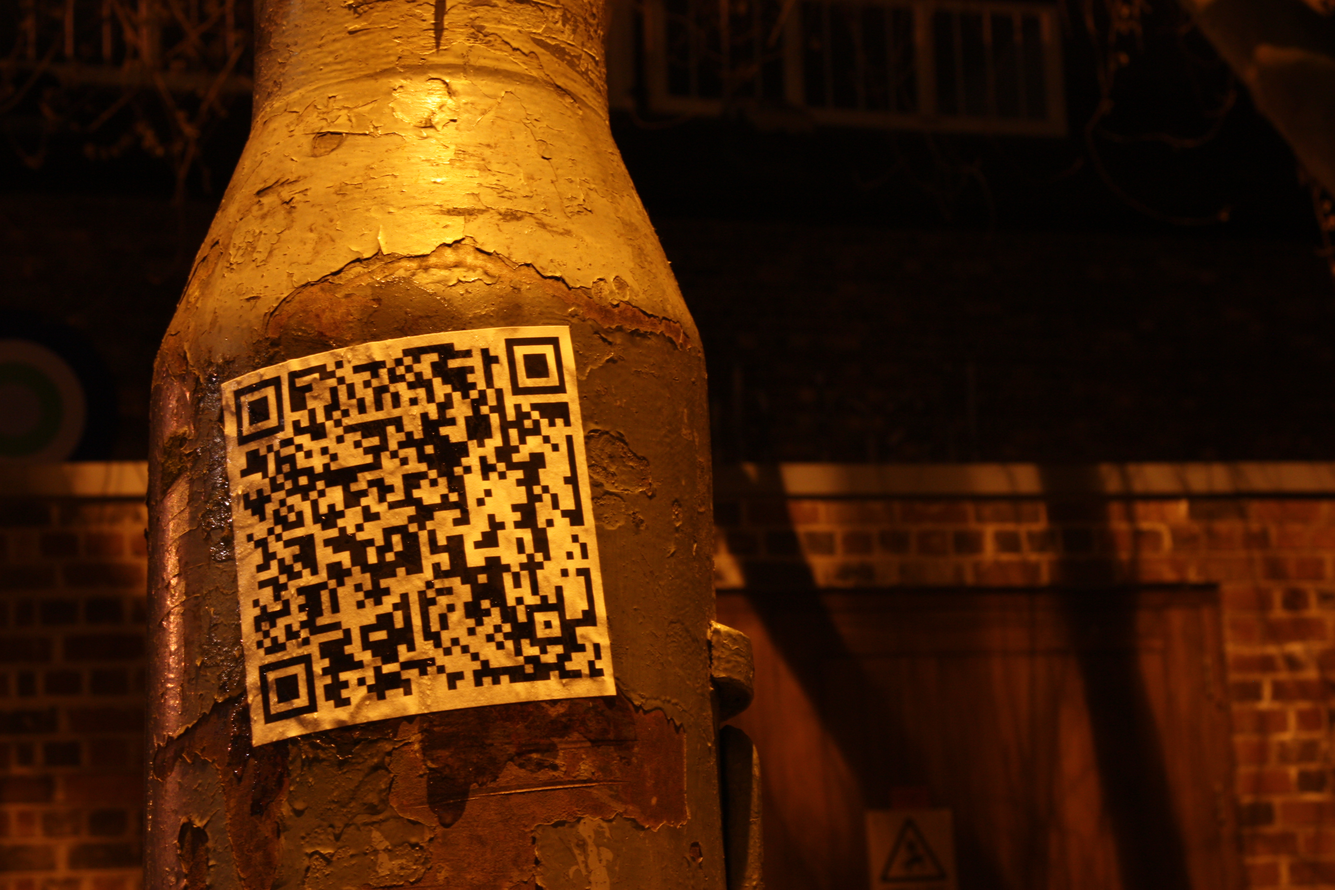QR-CODE: (234, 337, 604, 724)
